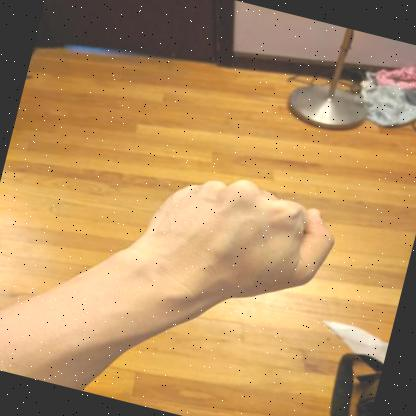A: (124, 180, 334, 303)
